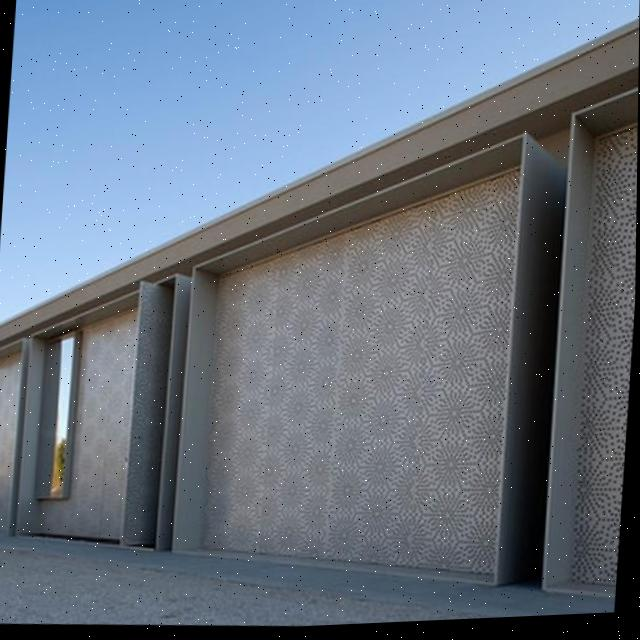building: (0, 0, 640, 627)
